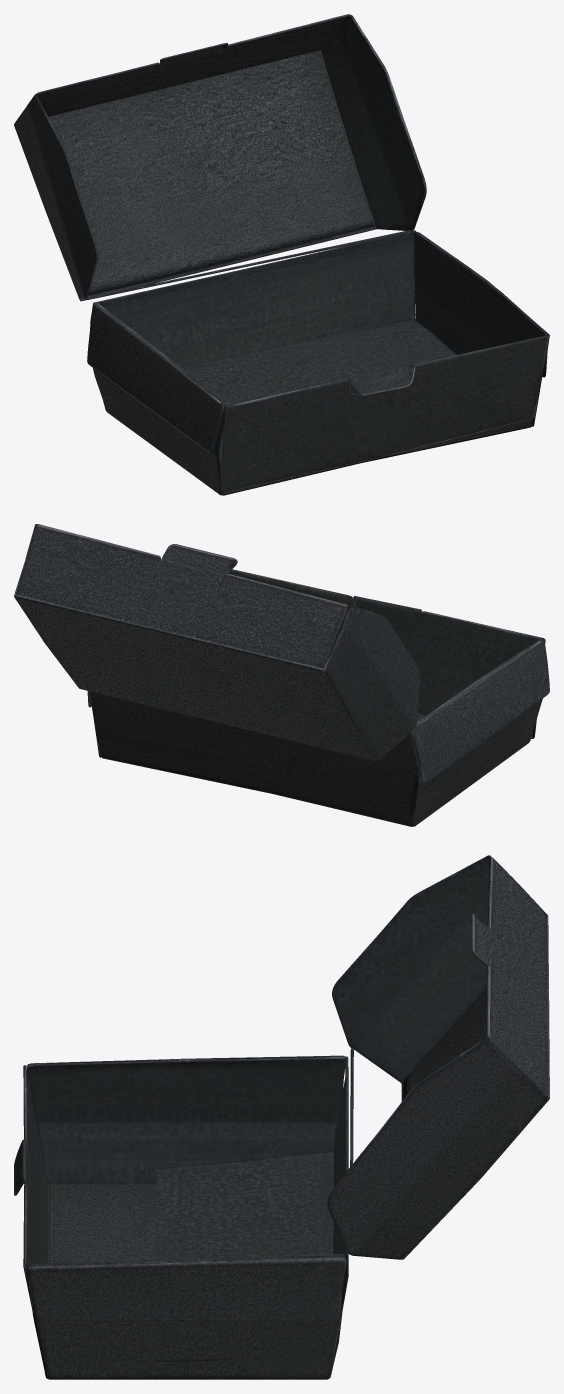
Rendered from bbq_box_open.glb.
3 renders of one model, top to bottom at view 1: azimuth 30°, elevation 25°; view 2: azimuth 150°, elevation 25°; view 3: azimuth 270°, elevation 25°, orthographic. The views are drawn at different scales.
Parts seen in each view (by area): view 1: tripo_node_78395749-0197-49e6-9802-745ed0a100e9; view 2: tripo_node_78395749-0197-49e6-9802-745ed0a100e9; view 3: tripo_node_78395749-0197-49e6-9802-745ed0a100e9.
Part boxes in pixels (x1,y1,x2,y2): tripo_node_78395749-0197-49e6-9802-745ed0a100e9: (14,14,549,495); tripo_node_78395749-0197-49e6-9802-745ed0a100e9: (14,524,549,826); tripo_node_78395749-0197-49e6-9802-745ed0a100e9: (14,855,549,1379).
Size of the model in its own units: 0.8882 by 0.7222 by 0.9995.
Materials: 1 (1 with a texture image).
